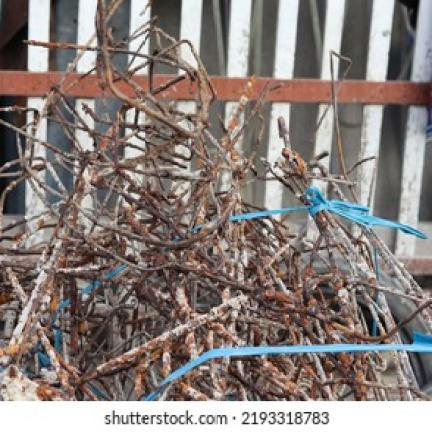karat: (0, 0, 431, 401), (252, 78, 330, 103)
